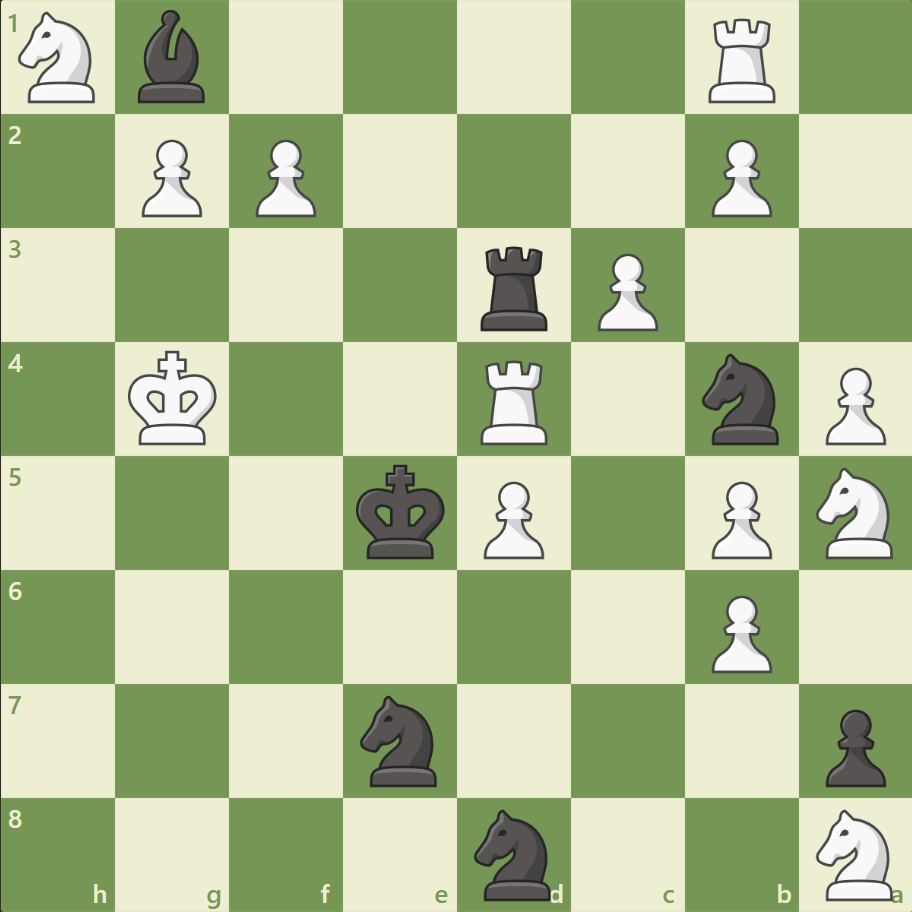K: (124, 344, 224, 452)
N: (806, 461, 903, 564), (11, 7, 108, 110), (806, 802, 903, 904)
P: (701, 586, 776, 677), (701, 473, 776, 564), (474, 473, 549, 564), (701, 132, 776, 223), (247, 132, 322, 223), (133, 132, 208, 223), (815, 359, 889, 450), (588, 246, 662, 337)
R: (473, 352, 556, 449), (700, 12, 783, 109)
b: (131, 6, 215, 109)
k: (351, 458, 451, 566)
n: (351, 688, 449, 791), (465, 802, 562, 904), (692, 348, 789, 450)
p: (815, 700, 889, 791)
r: (473, 239, 556, 336)
